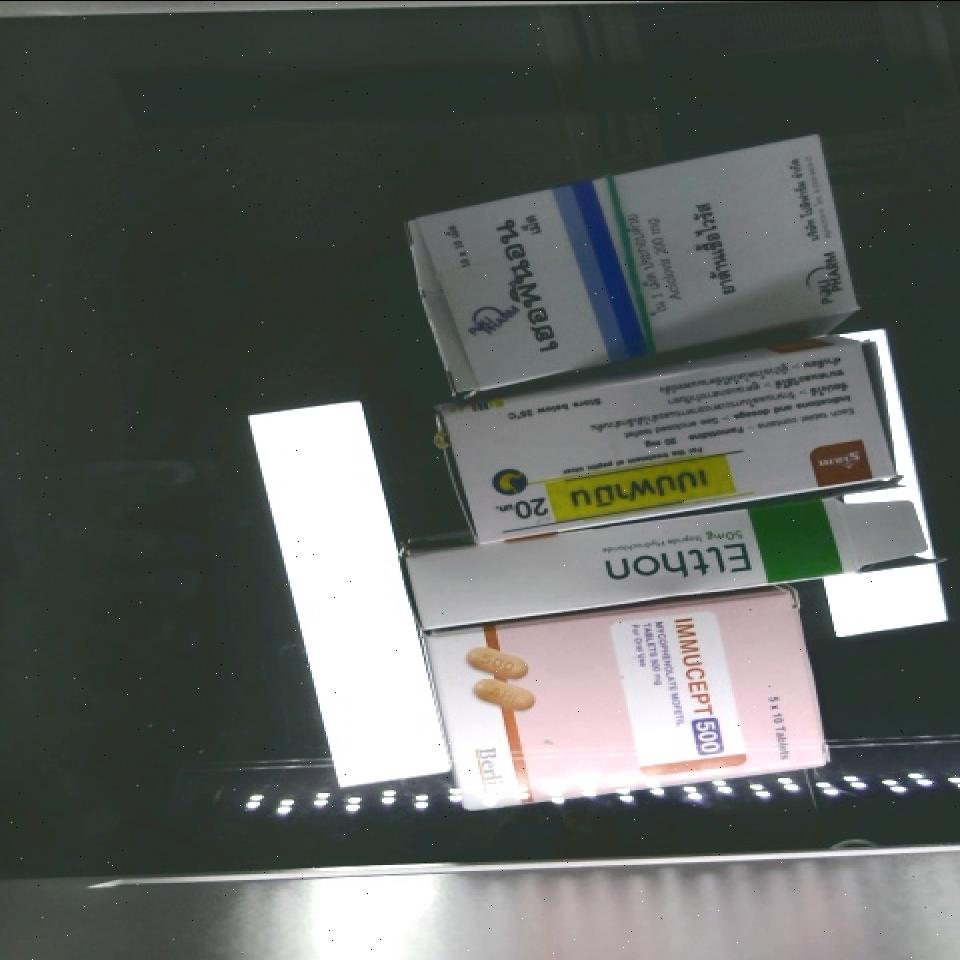medicine_box: (413, 129, 862, 396), (441, 339, 891, 539), (422, 588, 825, 810), (397, 477, 936, 630)
medicine_label_obb: (470, 194, 589, 378), (480, 451, 739, 532), (640, 597, 744, 777), (577, 523, 768, 603)
